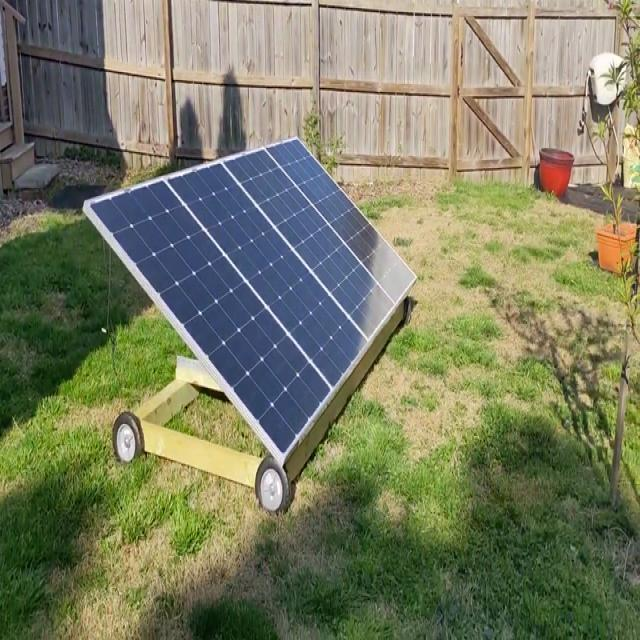Normal Solar Panel: (86, 136, 417, 464)
